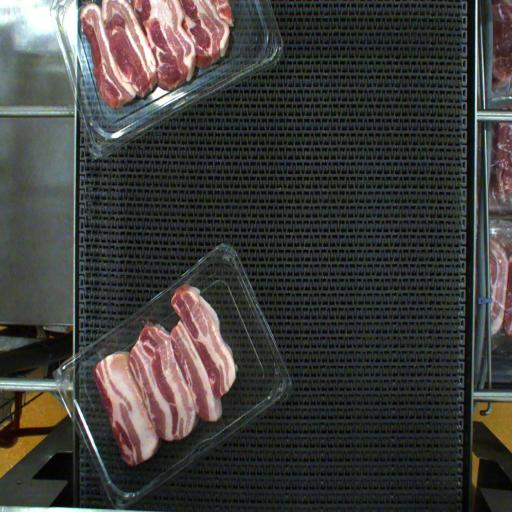packaging-error: (159, 279, 196, 310)
